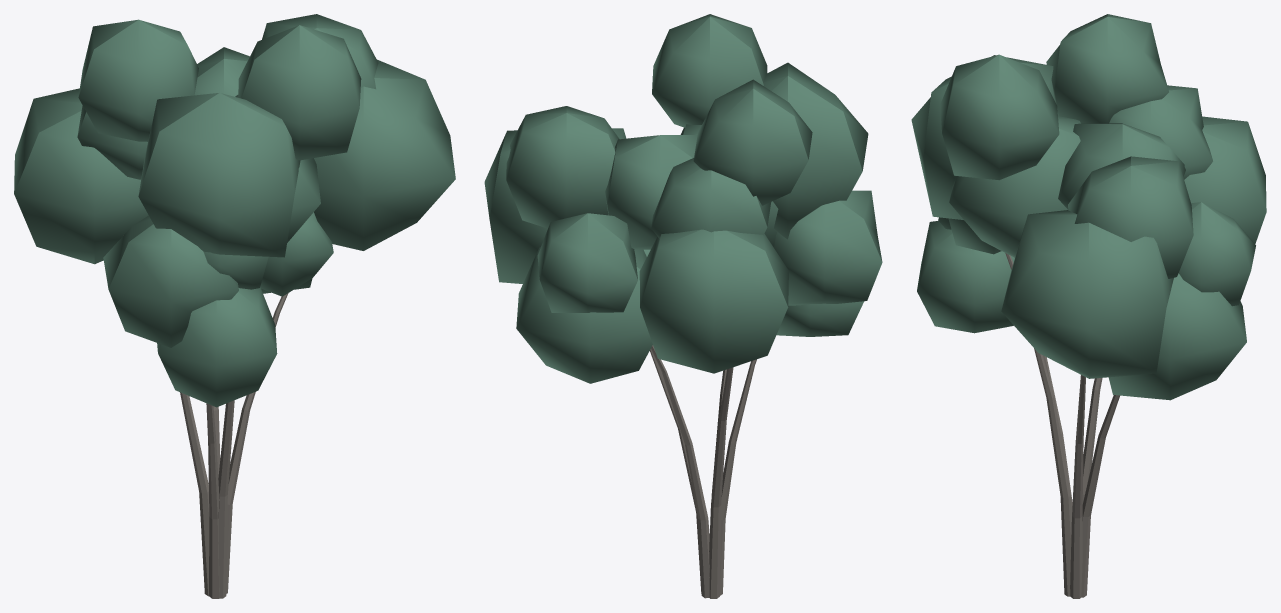
Rendered from dense-temperate-forest-flora-yew-young-14ff6e0c__28355.glb.
The picture shows the model from 3 angles, left to right: view 1: azimuth 30°, elevation 25°; view 2: azimuth 150°, elevation 25°; view 3: azimuth 270°, elevation 25°; orthographic projection. The views are drawn at different scales.
Visible parts, largest first — view 1: yew-young; view 2: yew-young; view 3: yew-young.
Boxes of the visible parts, x1,y1,x2,y2 form: yew-young: [14, 14, 455, 598]; yew-young: [484, 14, 882, 598]; yew-young: [911, 14, 1266, 598].
Size of the model in its own units: 1.94 by 2.81 by 1.62.
